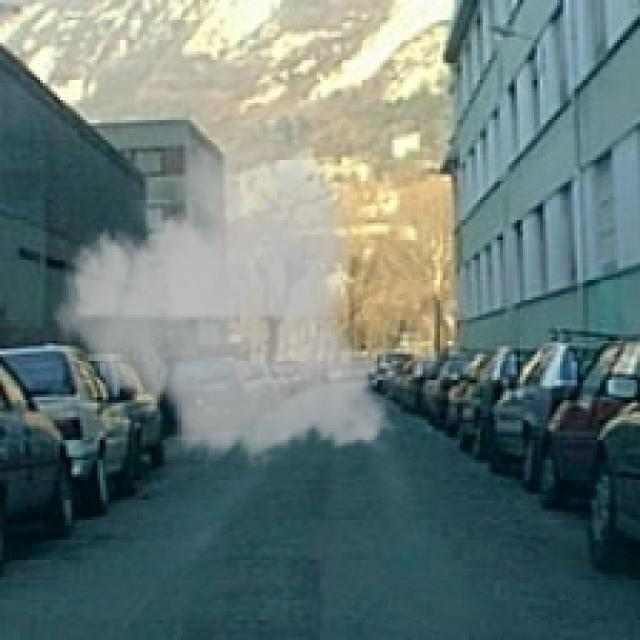smoke: (43, 117, 406, 472)
